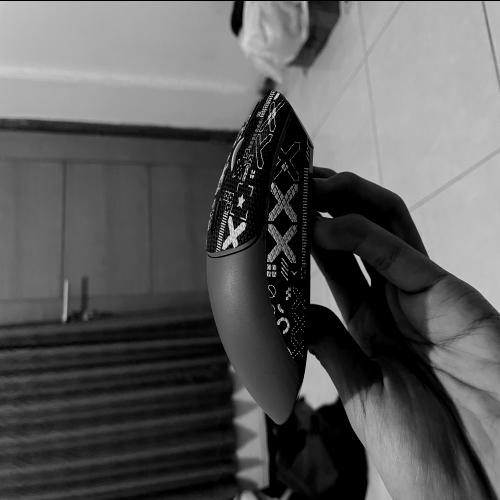Mouse: (190, 73, 325, 437)
